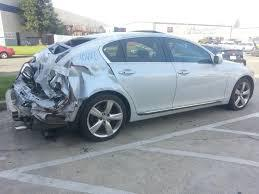boot-dent: (21, 53, 69, 90)
quaterpanel-dent: (66, 59, 113, 97)
rear-bumper-dent: (12, 94, 62, 121)
